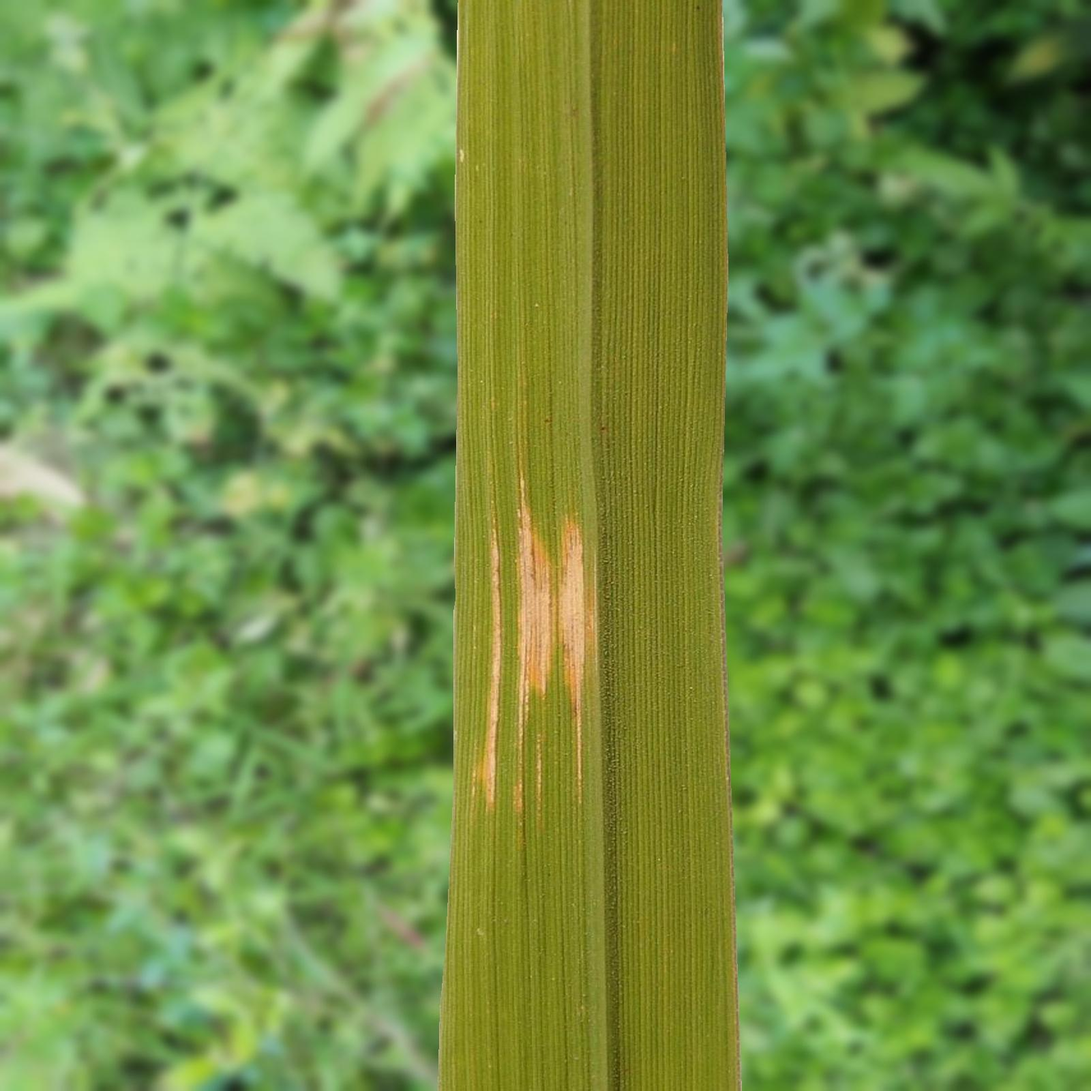BLS: (514, 495, 556, 816), (556, 518, 599, 794), (480, 518, 503, 809)
LEAF: (438, 0, 741, 1090)
